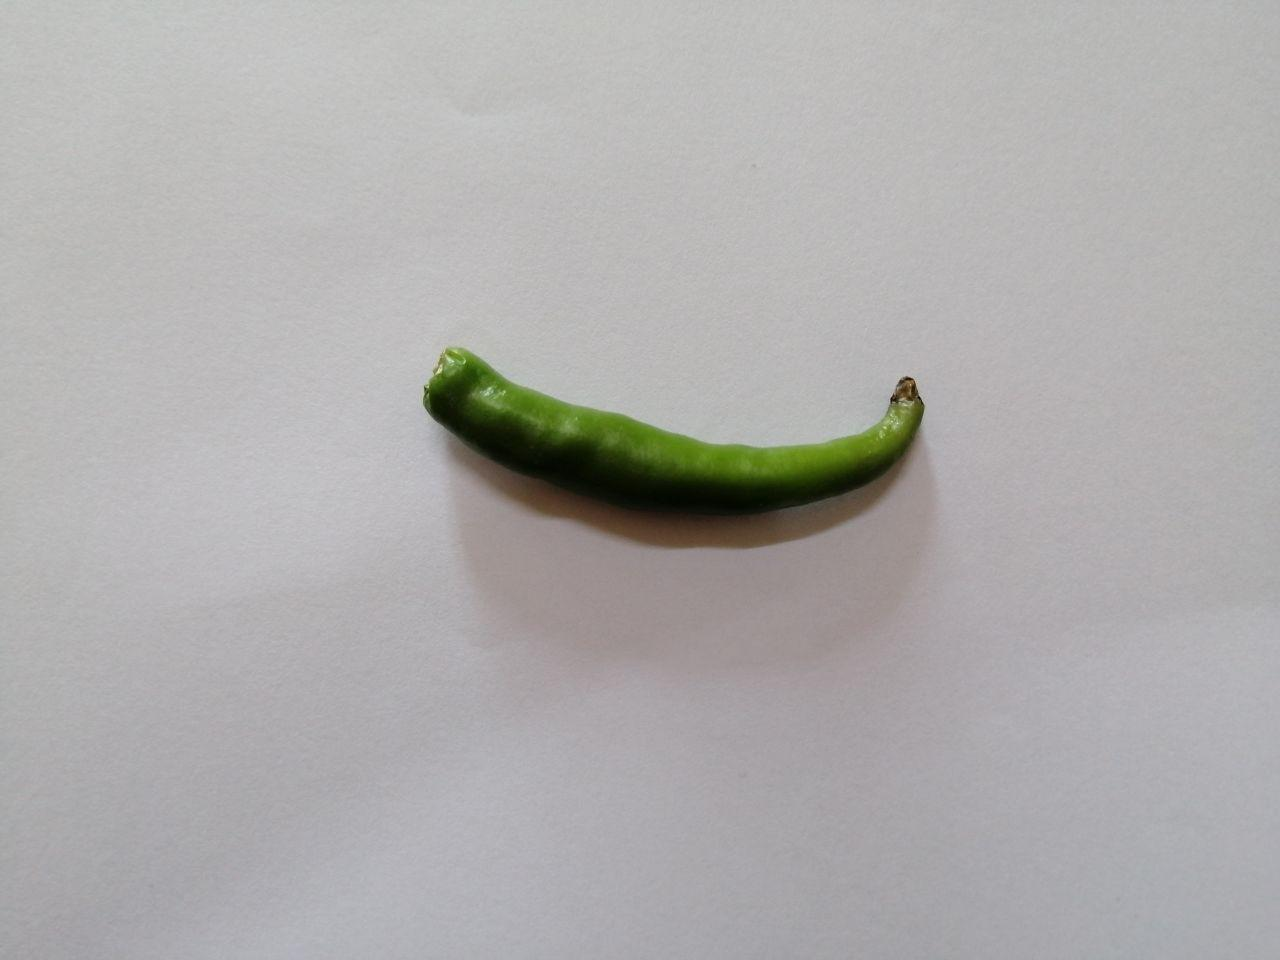lada hijau: (410, 312, 947, 544)
